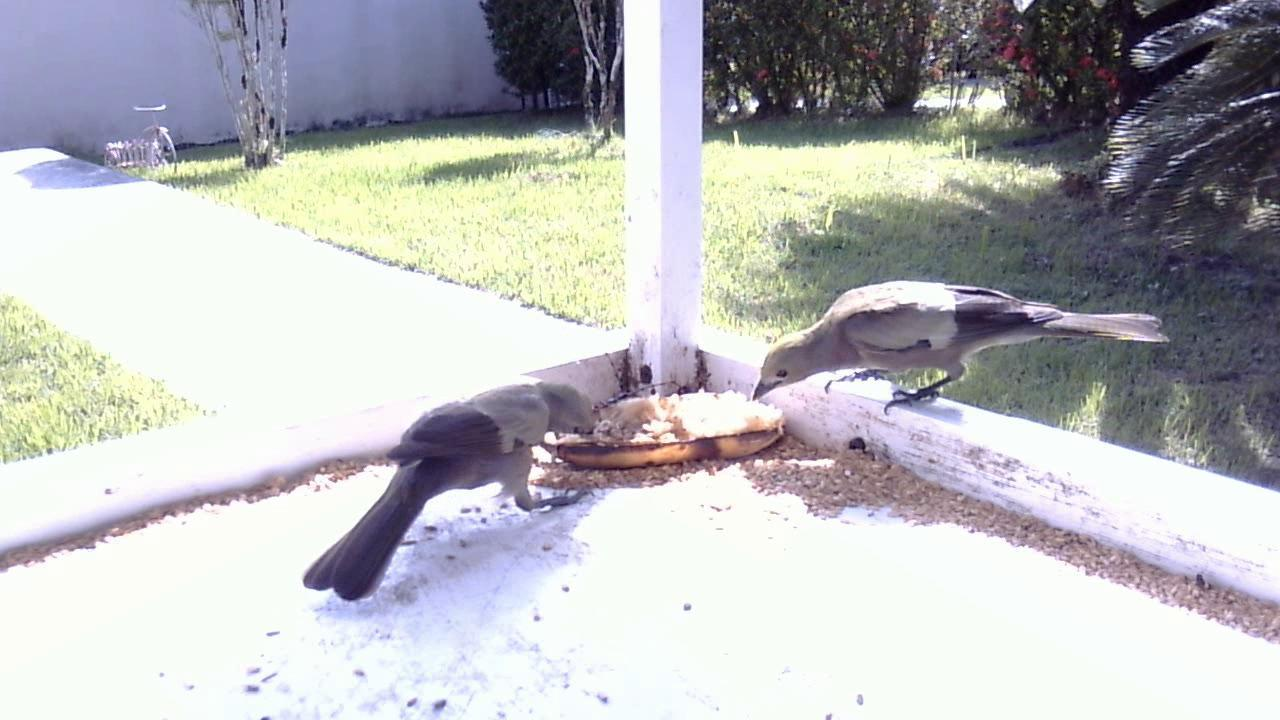sanhaco_do_coqueiro: (299, 352, 616, 611), (748, 259, 1172, 439)
